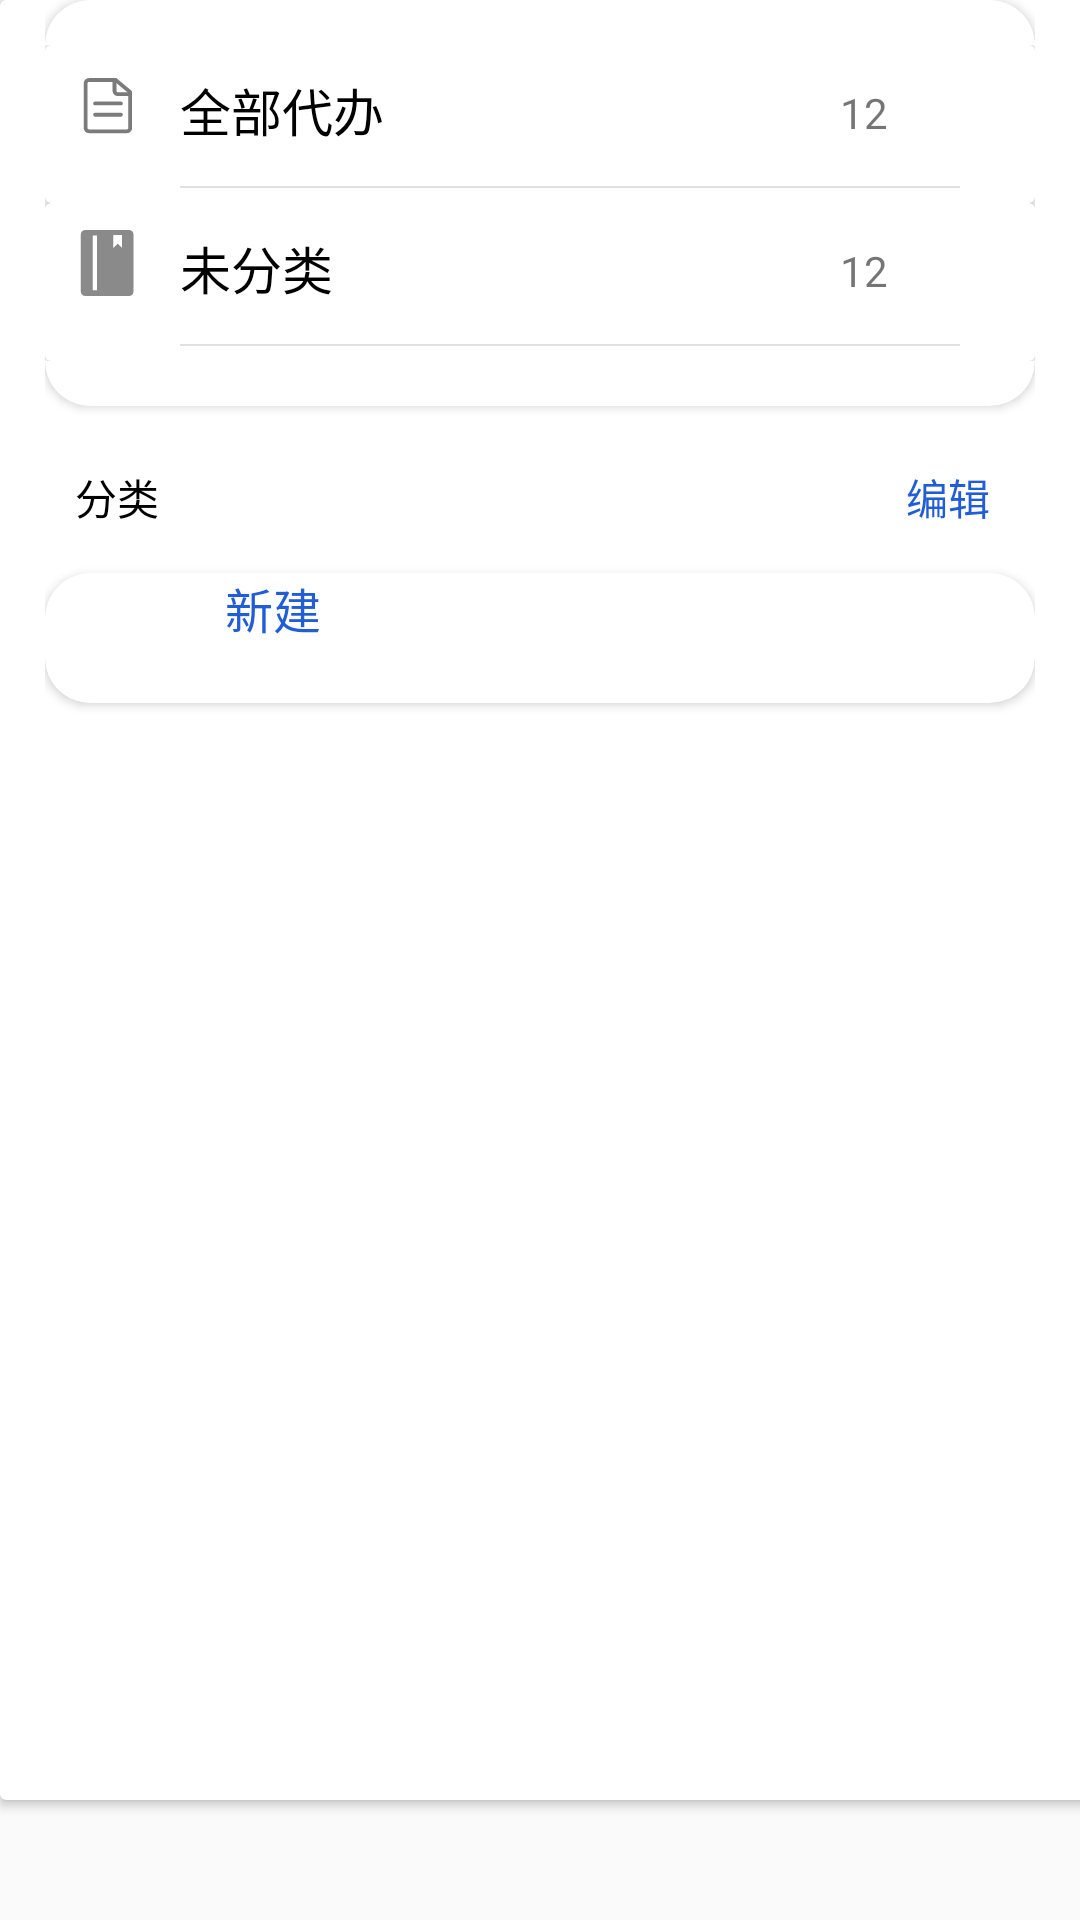

Icons on this 1080*1920 Android screen, each with the point to tap as (x=x, y=y):
all memo: (x=107, y=106)
